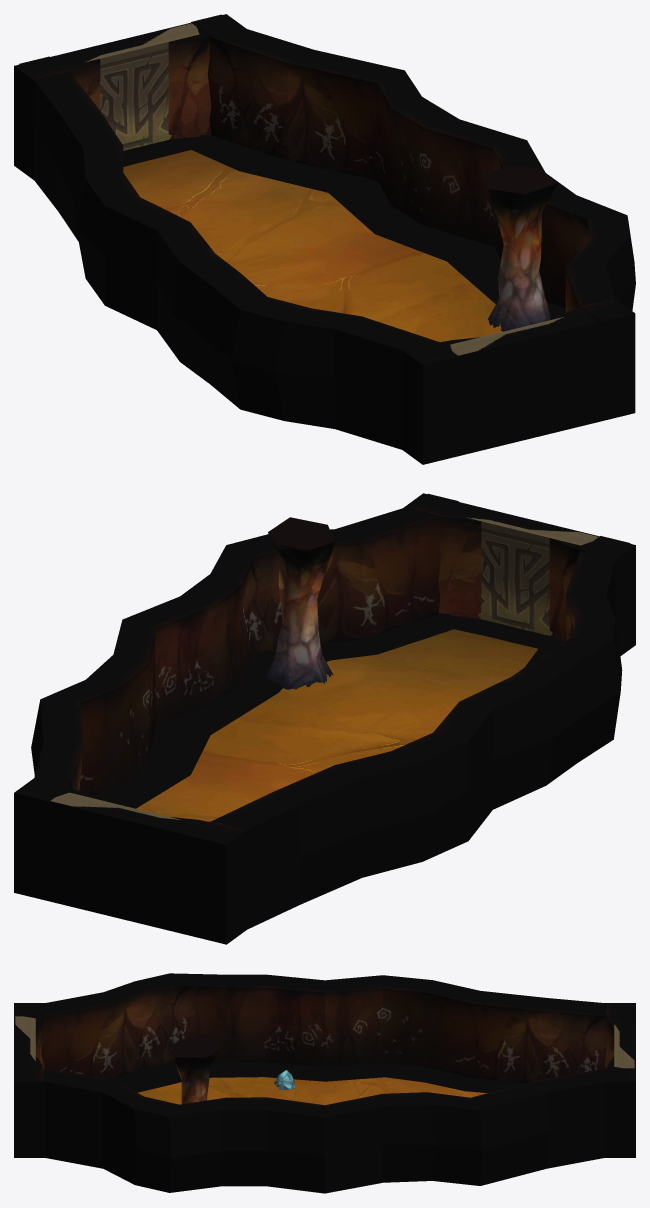
Rendered from Dungeon_011_Road_002.fbx.
3 renders of one model, top to bottom at view 1: azimuth 30°, elevation 25°; view 2: azimuth 150°, elevation 25°; view 3: azimuth 270°, elevation 25°, orthographic. The views are drawn at different scales.
Parts seen in each view (by area): view 1: Dan1, Dan2, Dun_011_Door_002_old (×2), Dan1_shadow, Dungeon_011_Object_010, Dun_011_Door_003_WarpRoom (×2), Dun_011_Door_002, Dun_011_Door_002_shadow; view 2: Dan1, Dan2, Dun_011_Door_002_old (×2), Dan1_shadow, Dun_011_Door_003_WarpRoom (×2), Dungeon_011_Object_010, Dun_011_Door_002, Dun_011_Door_002_shadow; view 3: Dan1, Dan1_shadow, Dan2, Dun_011_Door_002_old (×2), Dungeon_011_Object_010, Dun_011_Door_003_WarpRoom (×2), Dun_011_Door_002.
Boxes of the visible parts, x1,y1,x2,y2 form: Dan1: (14, 14, 635, 464); Dan2: (123, 150, 502, 342); Dun_011_Door_002_old (×2): (19, 14, 630, 454); Dan1_shadow: (171, 134, 565, 319); Dungeon_011_Object_010: (482, 166, 557, 331); Dun_011_Door_003_WarpRoom (×2): (85, 23, 563, 355); Dun_011_Door_002: (412, 300, 629, 456); Dun_011_Door_002_shadow: (123, 139, 190, 166); Dan1: (14, 493, 635, 944); Dan2: (136, 629, 538, 821); Dun_011_Door_002_old (×2): (19, 494, 630, 934); Dan1_shadow: (92, 613, 563, 808); Dun_011_Door_003_WarpRoom (×2): (50, 517, 598, 819); Dungeon_011_Object_010: (265, 517, 334, 689); Dun_011_Door_002: (39, 780, 239, 935); Dun_011_Door_002_shadow: (454, 618, 550, 648); Dan1: (14, 973, 635, 1193); Dan1_shadow: (110, 1061, 524, 1092); Dan2: (137, 1077, 487, 1104); Dun_011_Door_002_old (×2): (14, 1004, 635, 1079); Dungeon_011_Object_010: (170, 1036, 219, 1104); Dun_011_Door_003_WarpRoom (×2): (15, 1016, 634, 1068); Dun_011_Door_002: (14, 1005, 44, 1079).
Size of what is drawn, in the model's own units: 8.54 by 2.96 by 15.
